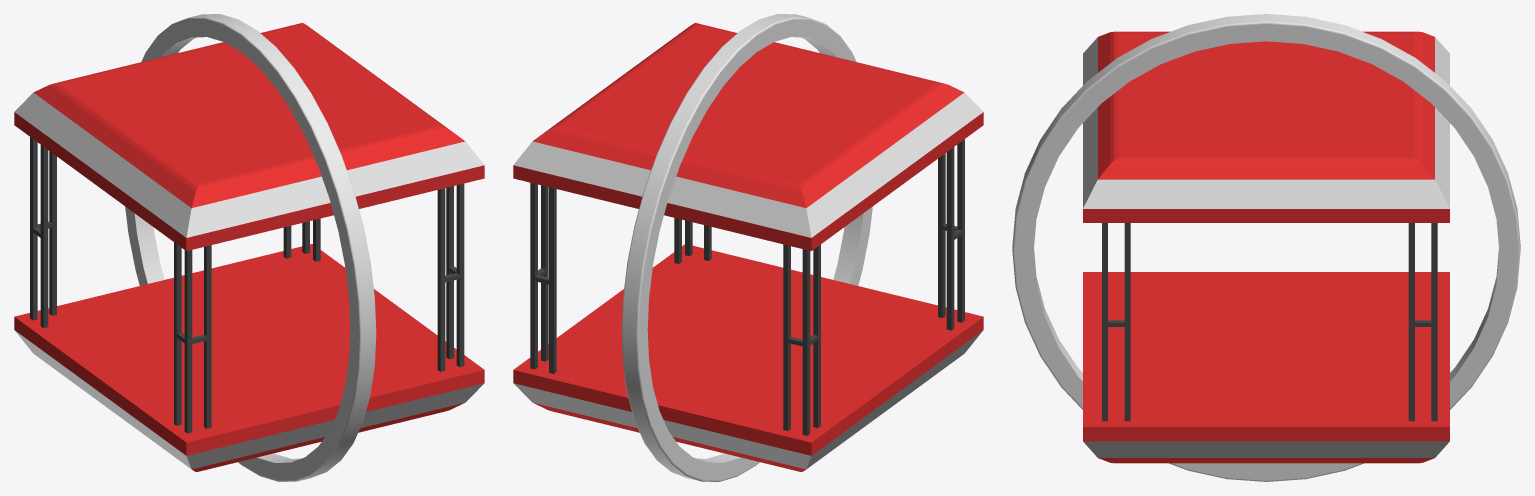
The picture shows the model from 3 angles, left to right: view 1: azimuth 30°, elevation 25°; view 2: azimuth 150°, elevation 25°; view 3: azimuth 270°, elevation 25°; orthographic projection. The views are drawn at different scales.
Visible parts, largest first — view 1: pCube20, pPipe1; view 2: pCube20, pPipe1; view 3: pCube20, pPipe1.
Boxes of the visible parts, x1,y1,x2,y2 form: pCube20: (14,23,484,471); pPipe1: (125,14,376,481); pCube20: (513,23,983,471); pPipe1: (621,14,872,481); pCube20: (1083,31,1449,463); pPipe1: (1012,14,1520,481).
Bounding box in the file's own units: 4.34 × 6 × 6.
